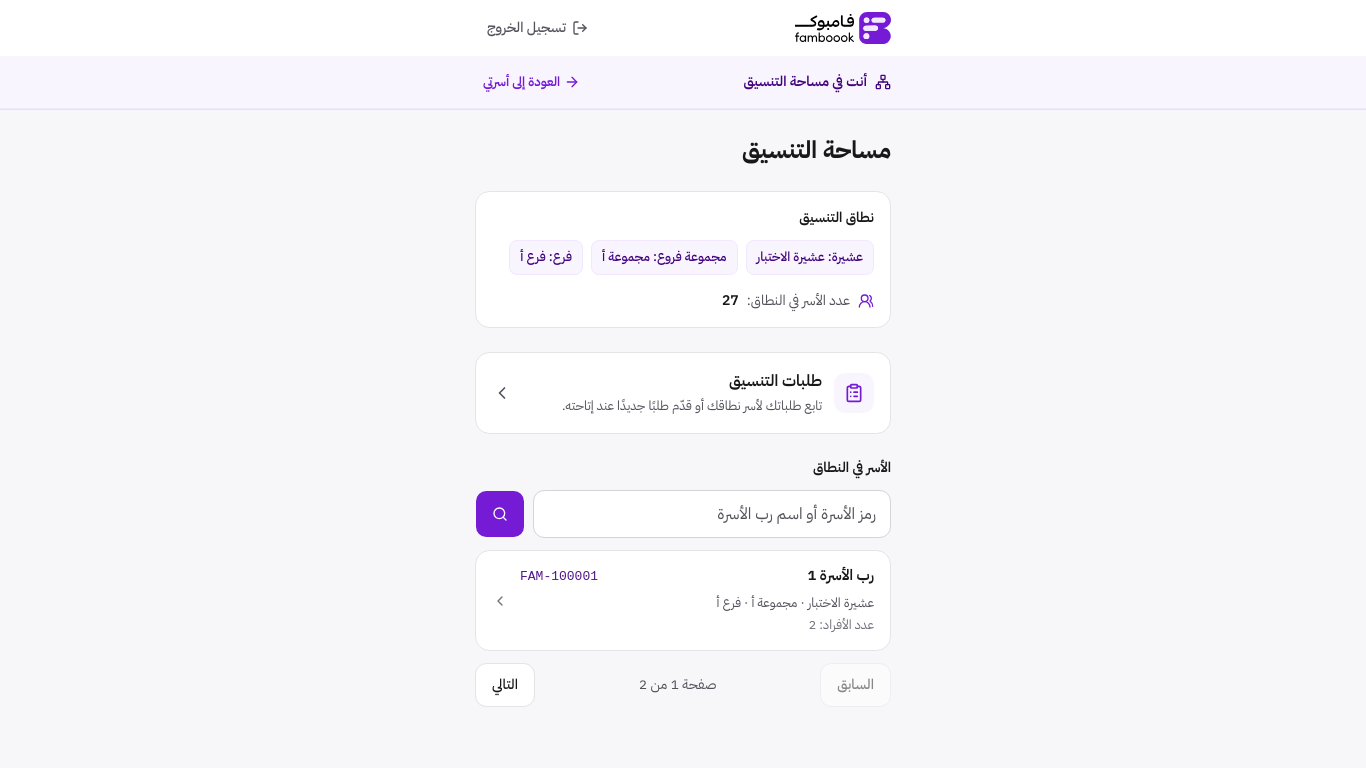
it: Coordinator Space › paginates with the server's pages
expect the text "صفحة 1 من 2" is shown: met, box x1=639 y1=675 x2=716 y2=695
expect the button "السابق" is disabled: met, box x1=820 y1=663 x2=891 y2=707
Click the button "التالي" at {"x": 505, "y": 685}, box x1=475 y1=663 x2=535 y2=707
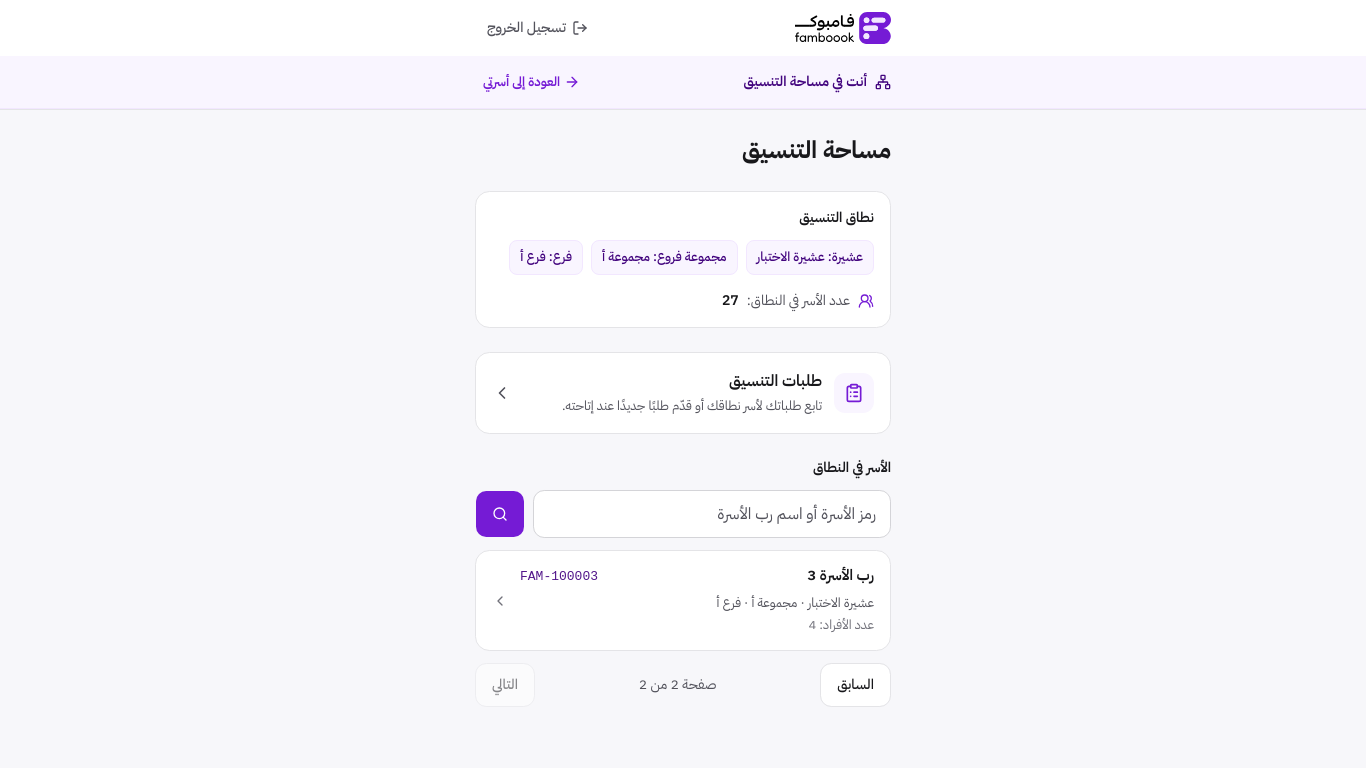
expect the text "صفحة 2 من 2" is shown: met, box x1=639 y1=675 x2=716 y2=695
expect the text "رب الأسرة 3" is shown: met, box x1=807 y1=564 x2=874 y2=586
expect the button "التالي" is disabled: met, box x1=475 y1=663 x2=535 y2=707
